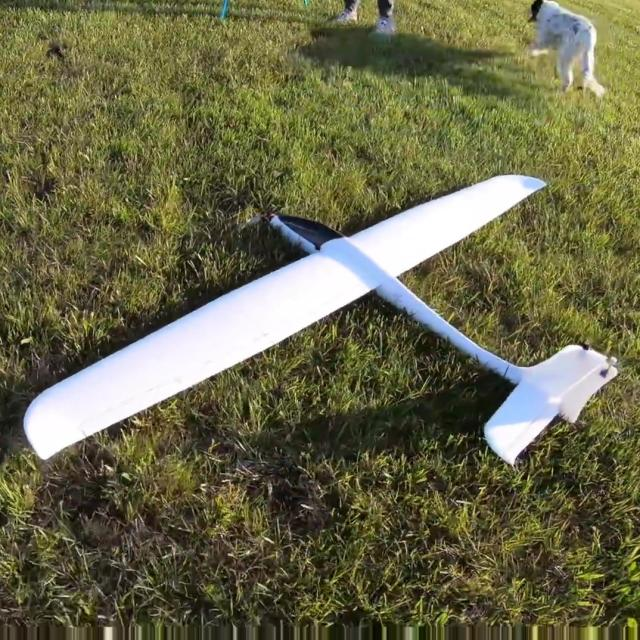iha: (18, 170, 622, 471)
